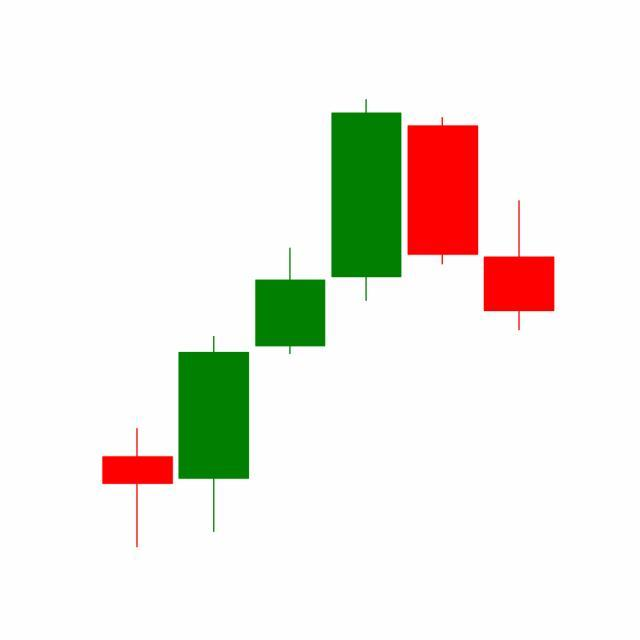Hikkake Pattern: (175, 99, 555, 537)
